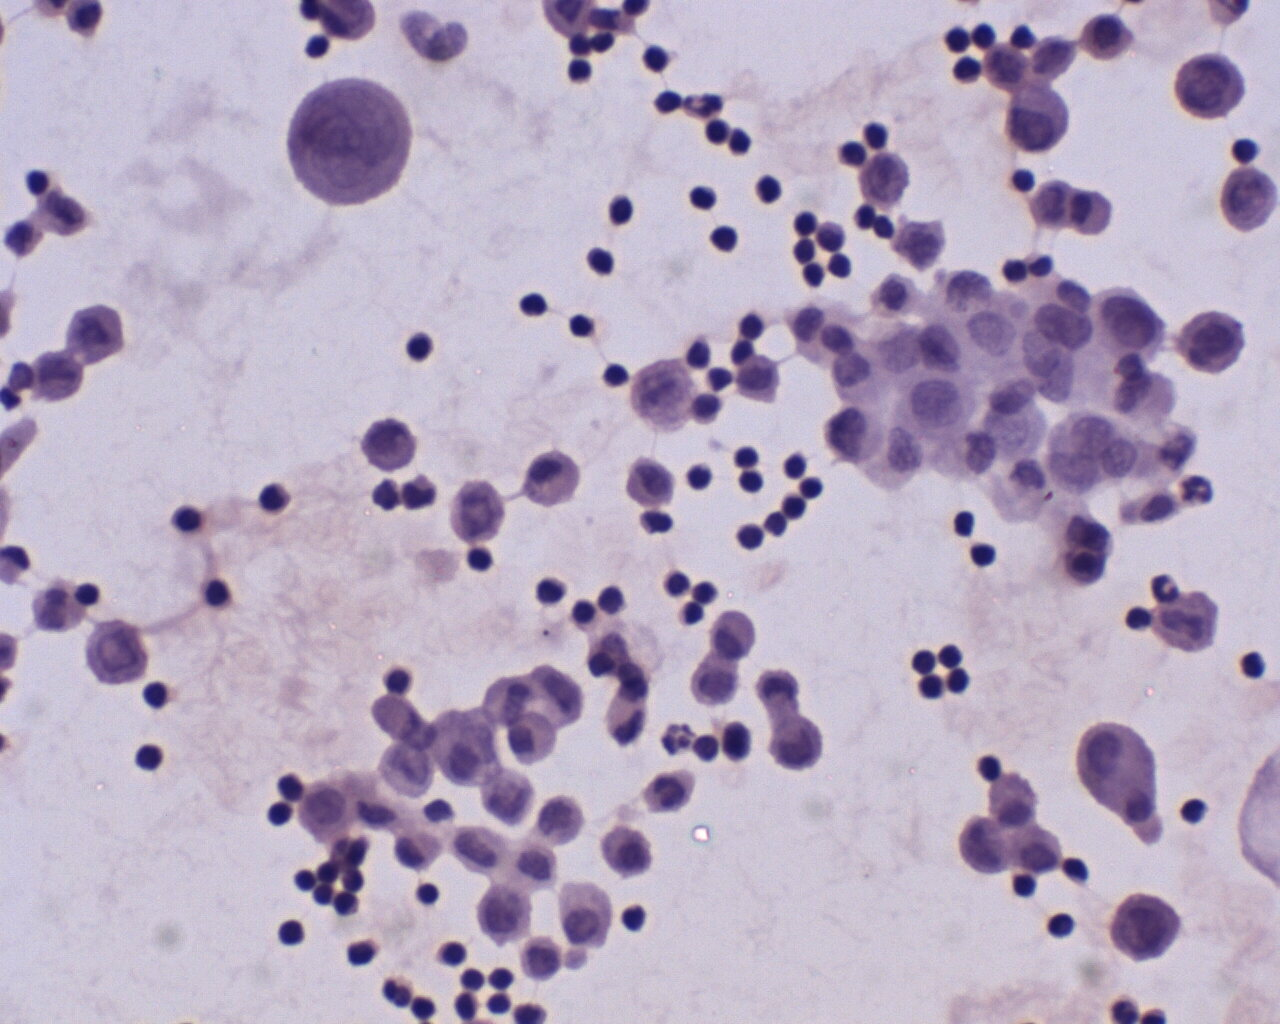ab: (278, 78, 417, 207), (1106, 887, 1184, 964), (1095, 283, 1167, 365), (1179, 47, 1248, 127), (1214, 165, 1280, 239), (84, 619, 152, 690), (857, 149, 913, 211)
lymph: (530, 571, 569, 607), (635, 41, 676, 76), (133, 740, 170, 776), (938, 22, 975, 59), (605, 191, 639, 230), (585, 243, 621, 280), (705, 223, 743, 255), (776, 449, 811, 483), (731, 523, 767, 556), (861, 116, 891, 153), (405, 323, 434, 362), (516, 285, 550, 318), (1045, 909, 1077, 942), (685, 459, 717, 493), (969, 538, 1002, 569), (906, 647, 940, 677), (1007, 163, 1039, 195), (755, 174, 787, 207)
meso: (294, 777, 362, 850), (550, 877, 613, 951), (522, 448, 583, 508), (504, 711, 561, 771)
neutro: (1147, 569, 1183, 603)
